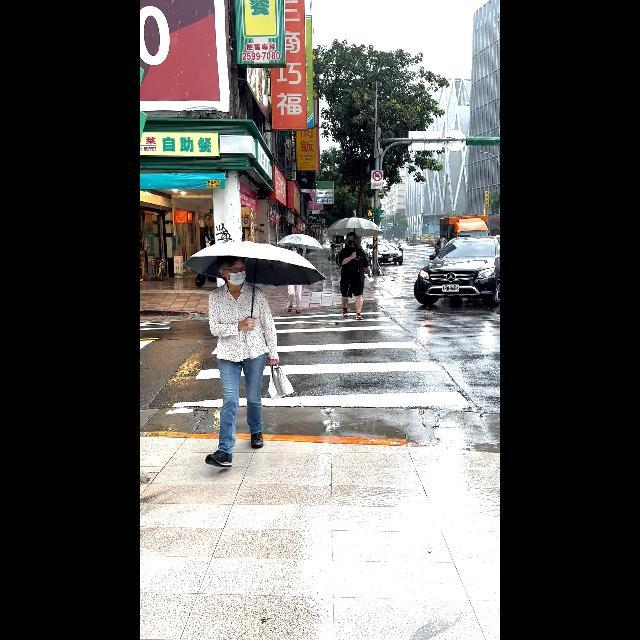sidewalk: (151, 296, 481, 450)
